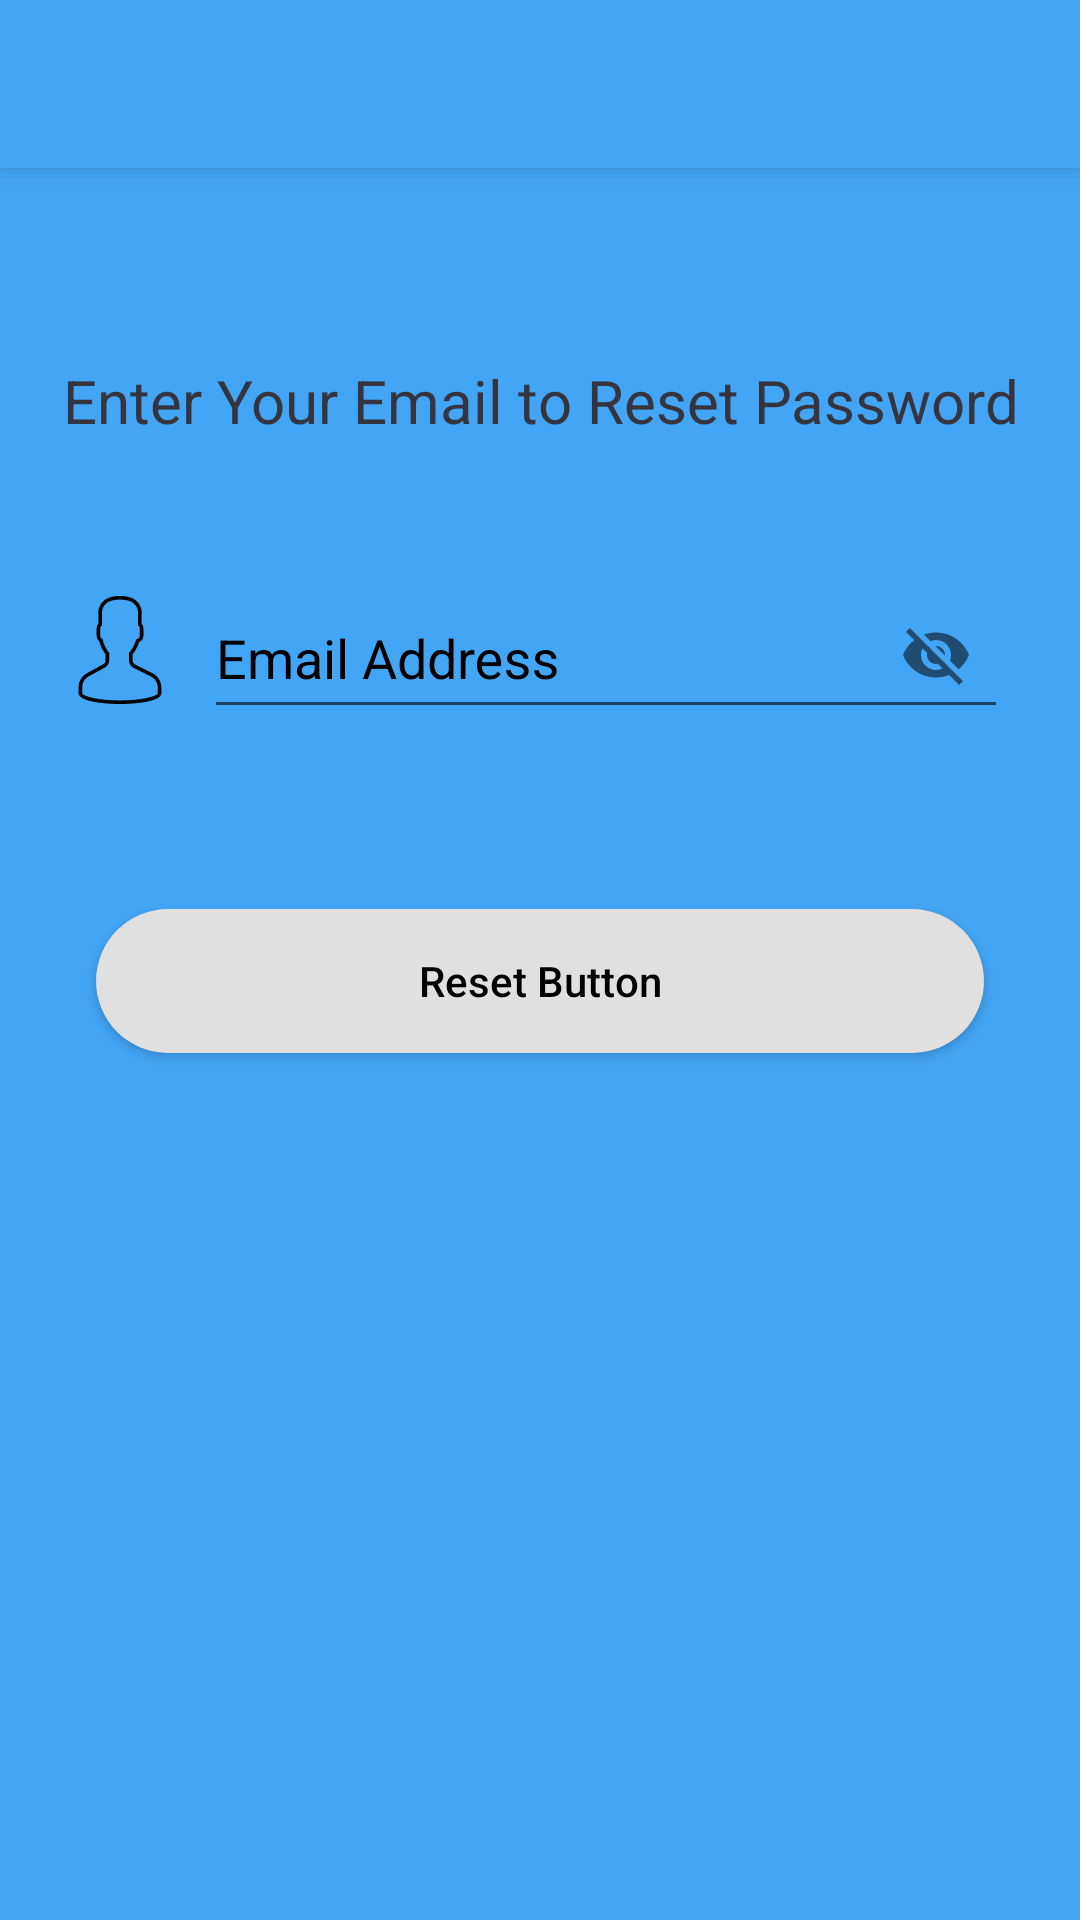

Screen size 1080×1920. Icon name, then its box in pixels as detection(x1, y1, x2, y2):
user: detection(78, 596, 162, 704)
